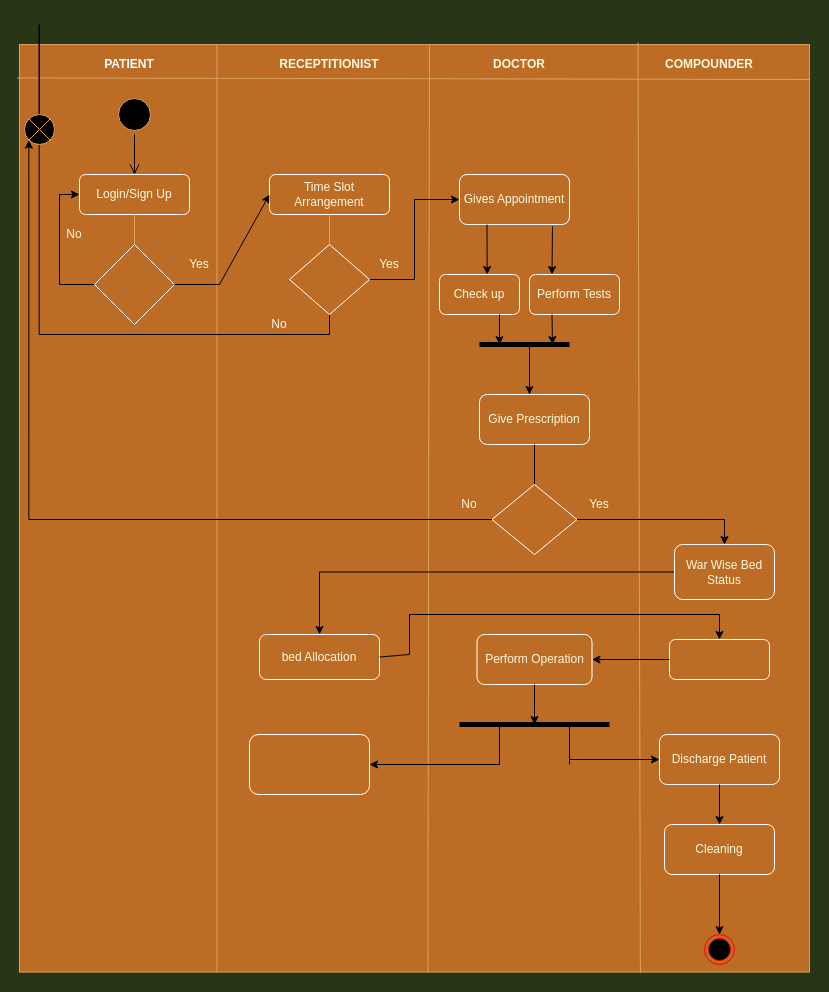
Some shapes in this 829 by 992 pixel diagram are drawn without their labels. The centre of each missing label's shape, as x and y in pixels:
"Admit Patient" belongs at pixel 719 659.
"Availability" belongs at pixel 329 279.
"Maintain Record" belongs at pixel 309 764.
"Operation Required" belongs at pixel 534 519.
"Verified User" belongs at pixel 134 284.
